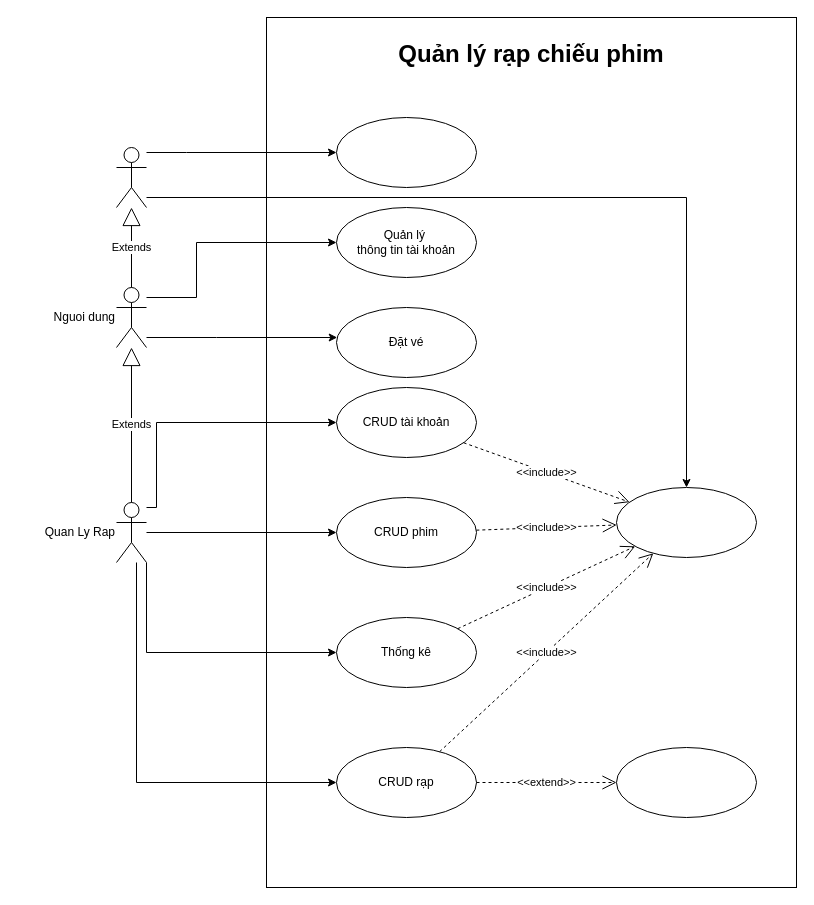
This 814x905 diagram has some shape labels left out. The centre of each missing label's shape, as x and y in pixels:
CRUD phòng: (686,782)
Nguoi dung khach: (131,177)
Xem thông tin phim, lịch chiếu: (406,152)
Đăng nhập: (686,522)
